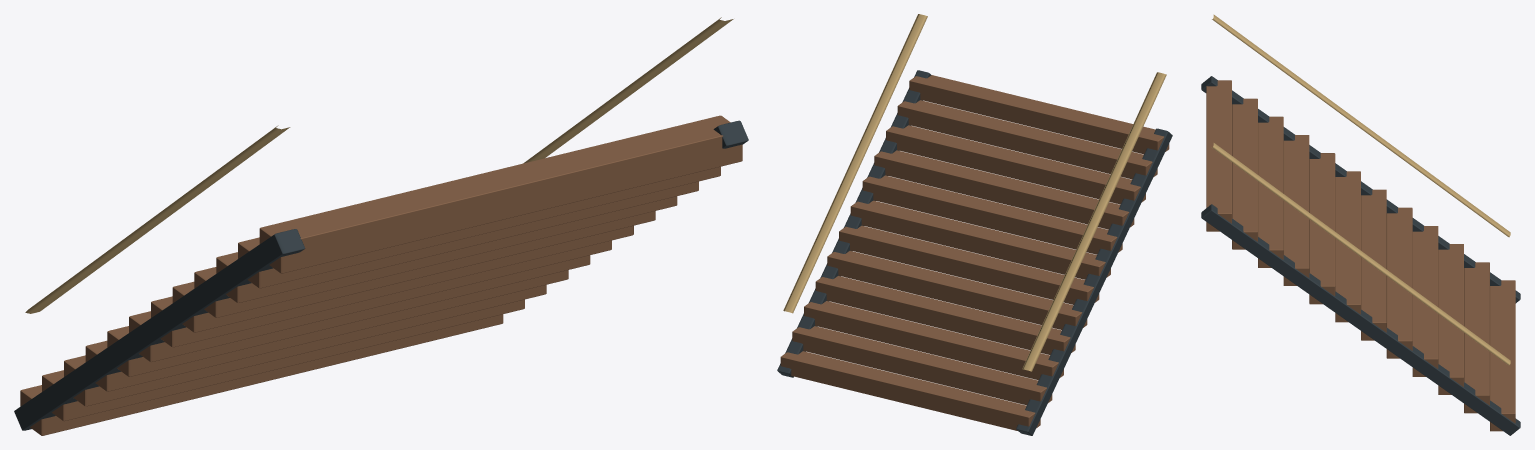
Rendered from stairs-18-1.glb.
3 renders of one model, left to right at view 1: azimuth 30°, elevation 25°; view 2: azimuth 150°, elevation 25°; view 3: azimuth 270°, elevation 25°, orthographic. The views are drawn at different scales.
Visible parts, largest first — view 1: tread, closed-stringer, part; view 2: tread, part, closed-stringer; view 3: tread, closed-stringer, part.
Boxes of the visible parts, x1=… form: tread: x1=20, y1=115, x2=742, y2=435; closed-stringer: x1=14, y1=120, x2=748, y2=430; part: x1=25, y1=17, x2=733, y2=313; tread: x1=780, y1=75, x2=1169, y2=430; part: x1=783, y1=14, x2=1166, y2=371; closed-stringer: x1=777, y1=70, x2=1172, y2=435; tread: x1=1206, y1=80, x2=1515, y2=431; closed-stringer: x1=1201, y1=76, x2=1520, y2=435; part: x1=1212, y1=14, x2=1510, y2=365.
Size of the model in its own units: 1 by 1 by 1.
